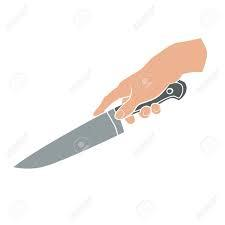Knife: (13, 79, 186, 169)
